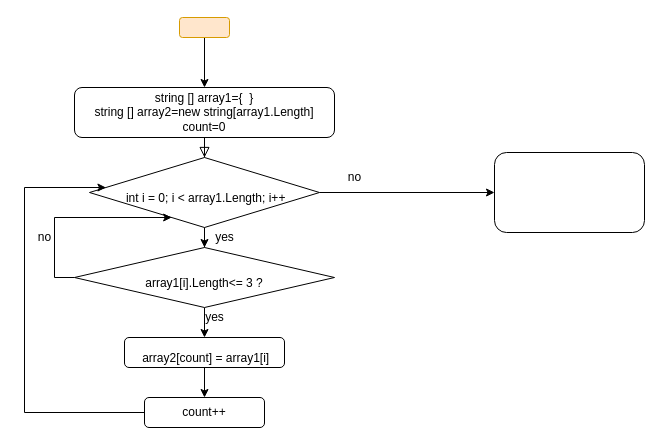
The diagram is 662 pixels wide and 445 high, and some of its shapes have lost their labels. The shapes that lost their labels are listed below. From the top down, each one's centre as x and y in pixels, then its label:
At point 204,27: "start".
At point 569,192: "void PrintArray (string[] array)".
